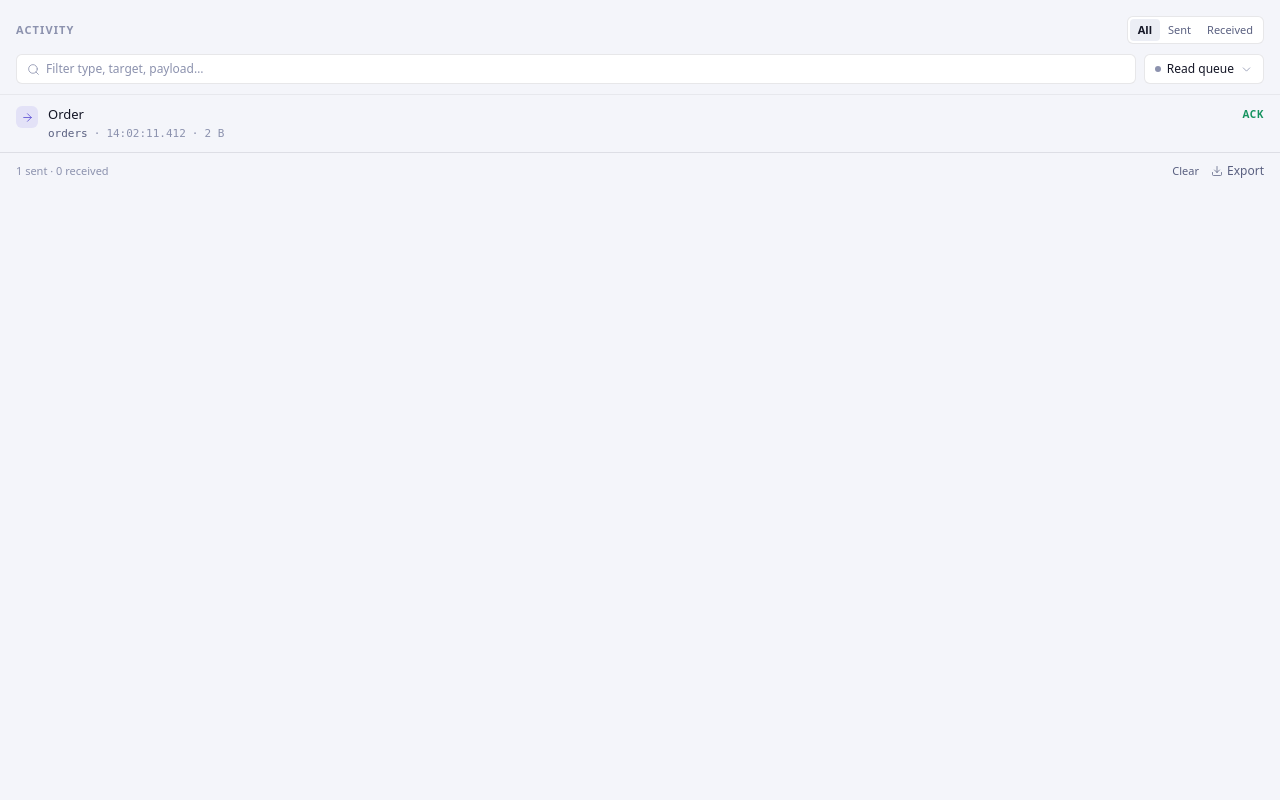
it: expanded row › Hex opens the binary payload dialog
Click the text "Order" at (66, 114), box [48,105,84,123]
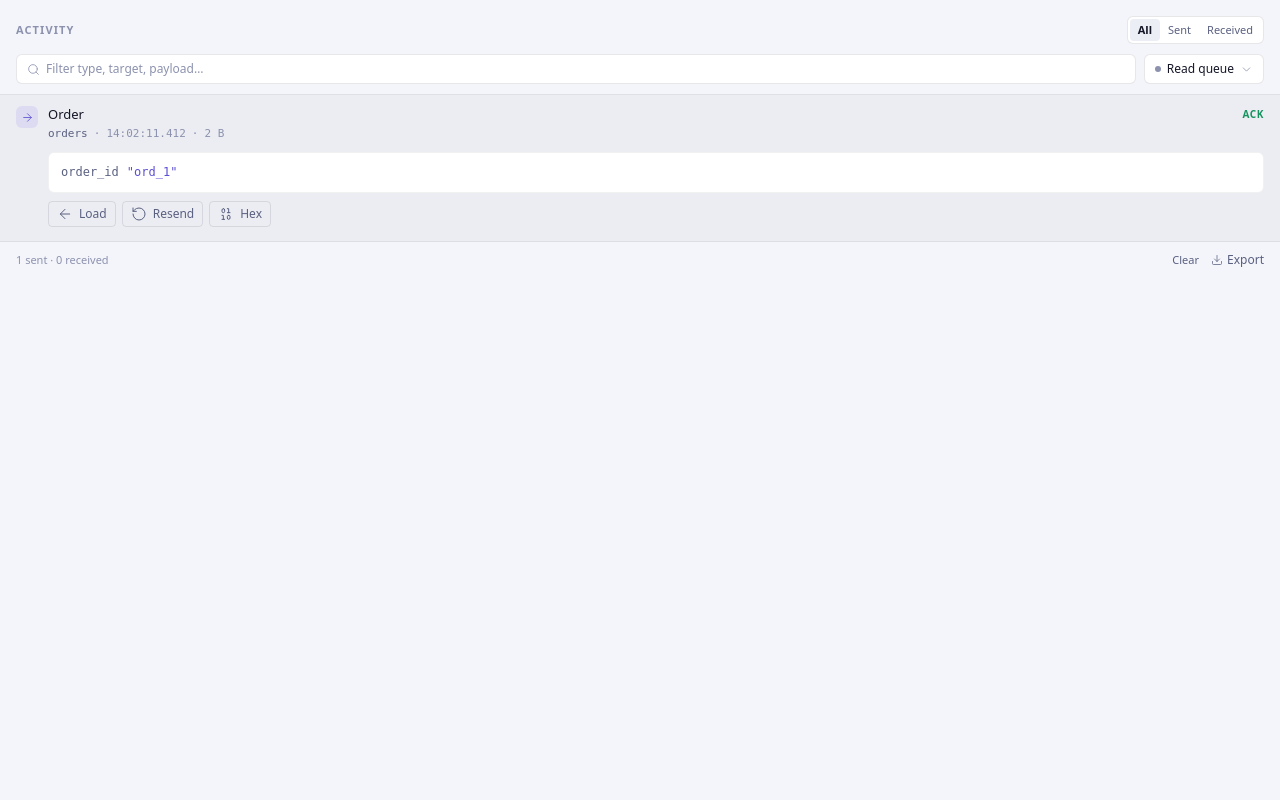
Click the button "Hex" at (240, 214), box [209,201,271,227]
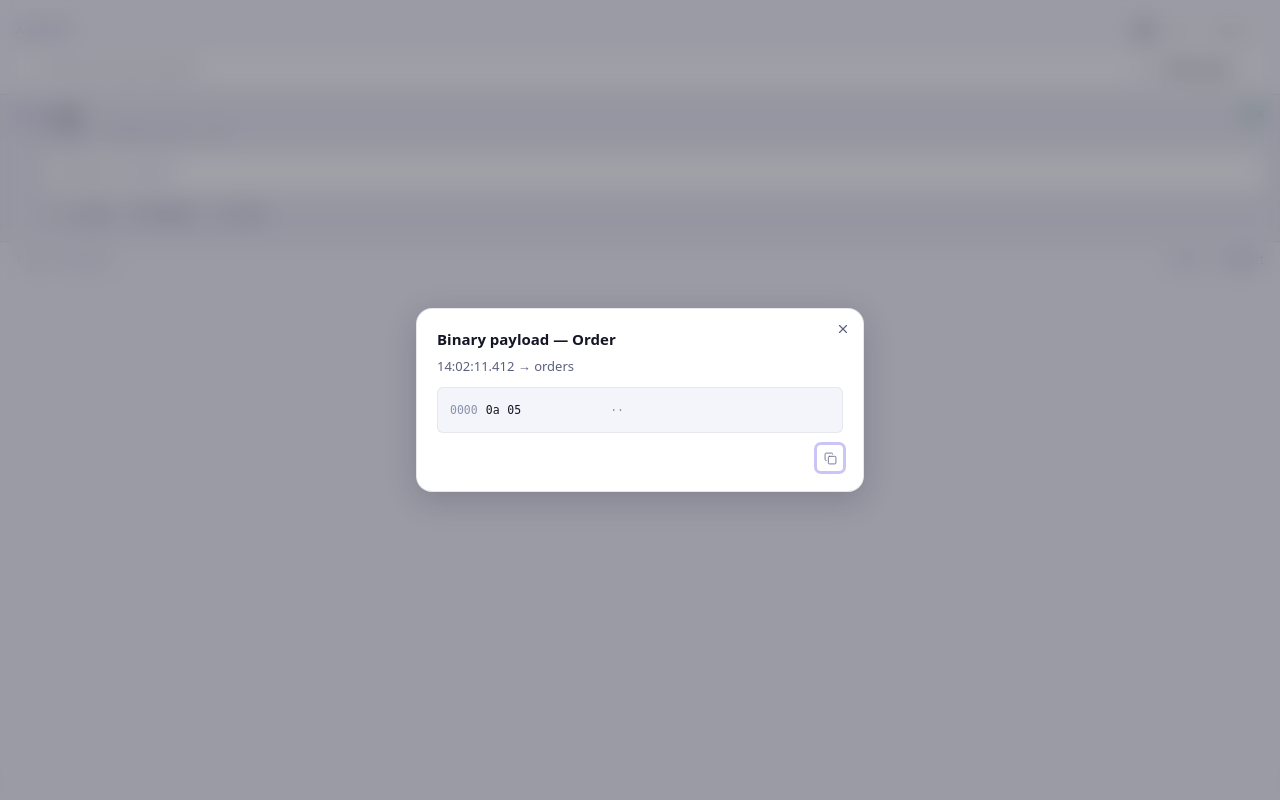
Expected: the heading "Binary payload — Order" is shown, [437,329,616,349]
